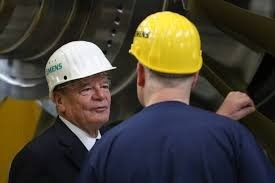helmet: (129, 11, 203, 75), (43, 41, 112, 92)
person with partial safety: (113, 9, 267, 182), (10, 40, 112, 183)
